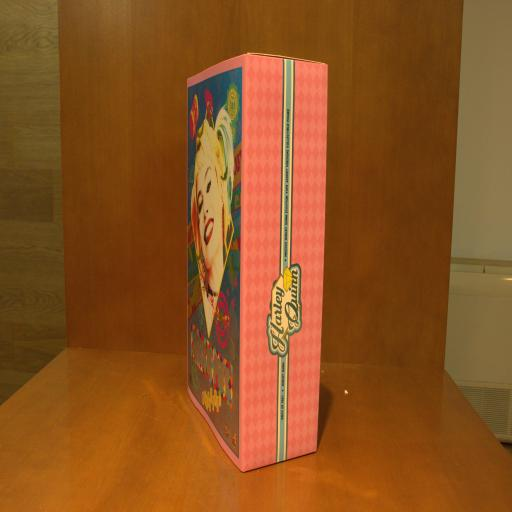Harley: (186, 48, 329, 474)
